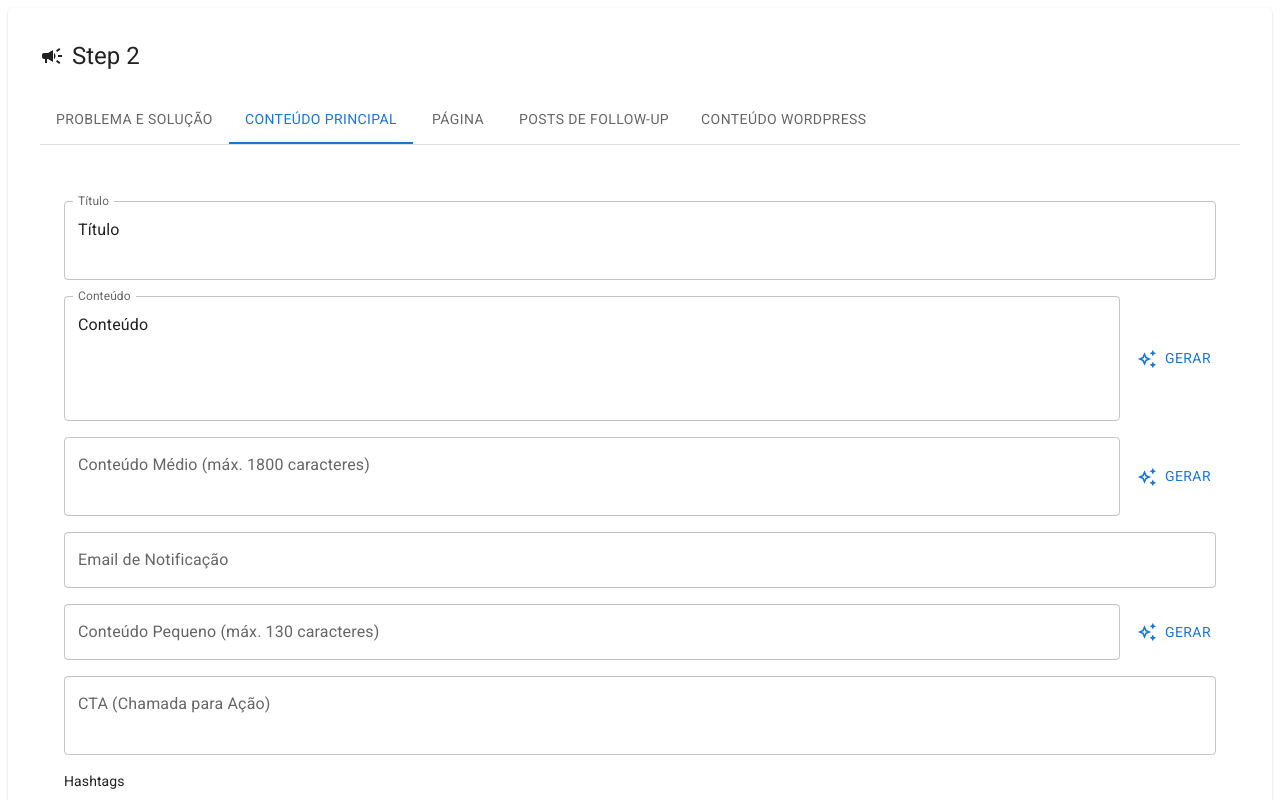
Campaign component - Page Image Upload › renders upload button in Page tab
This screenshot has width=1280, height=800.
# Switch to Tab 2 ("Página")
Click the tab "Página". click: {"x": 458, "y": 120}
box: [413,96,503,144]
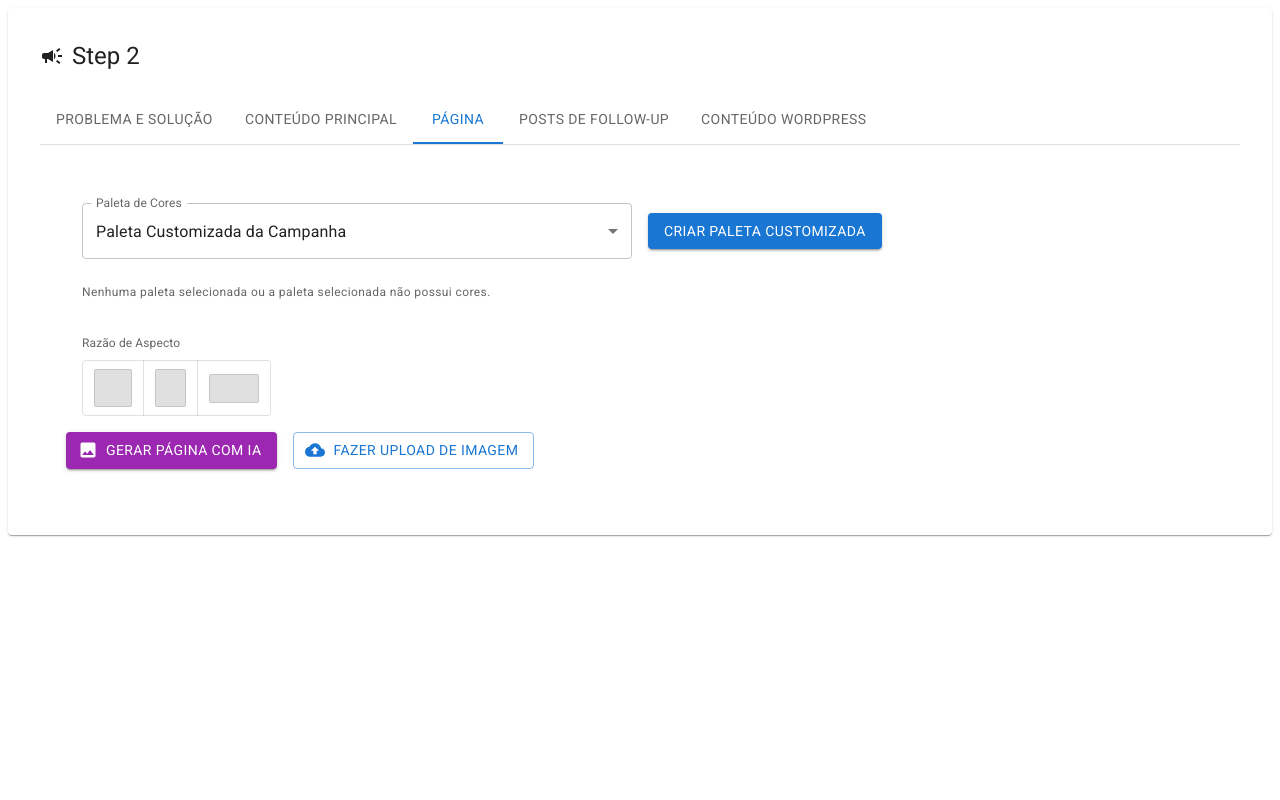
Expected: the button "Fazer Upload de Imagem" is shown, [294,432,534,469]
Expected: the button "Gerar Página com IA" is shown, [66,432,278,469]
